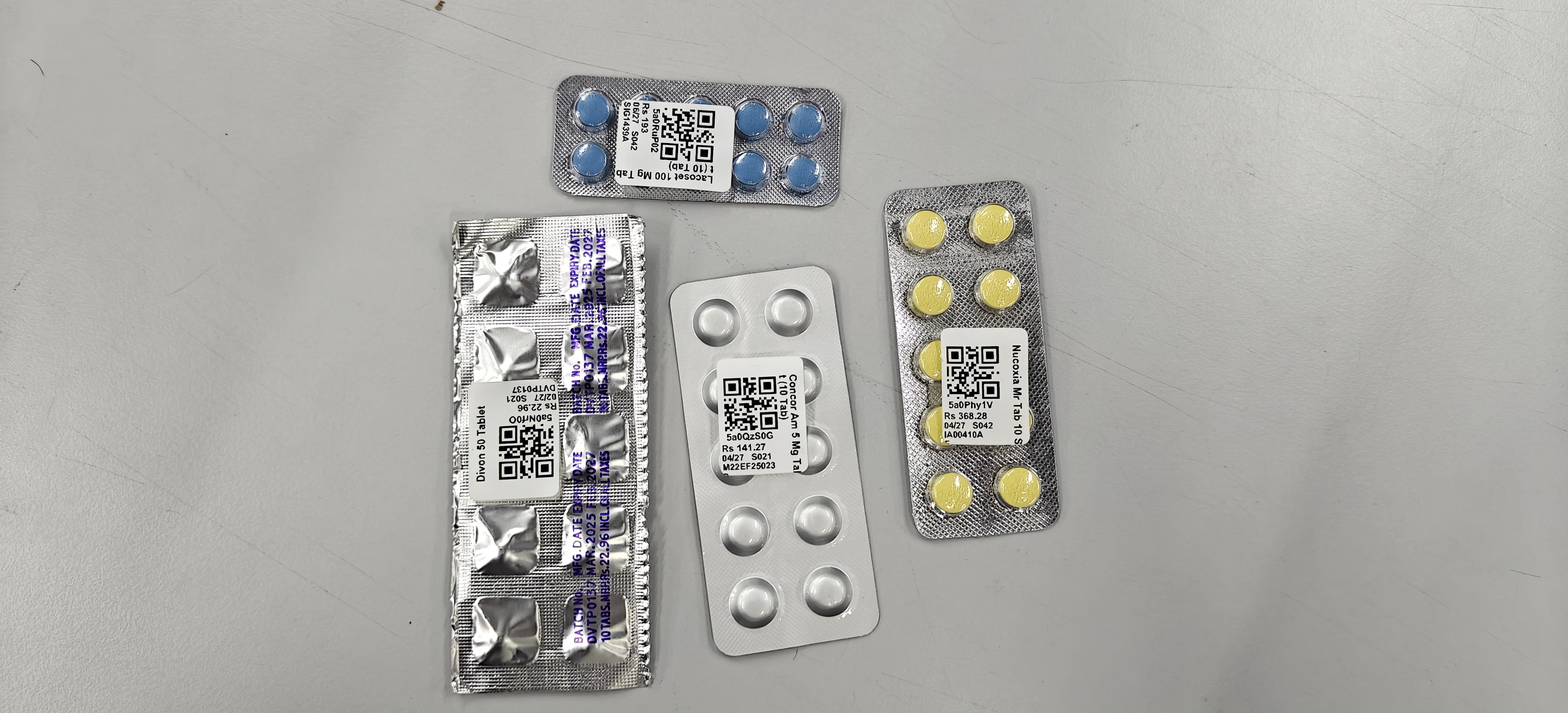qr_code: (660, 106, 715, 162), (499, 423, 553, 480), (723, 376, 778, 431), (946, 346, 1000, 399)
